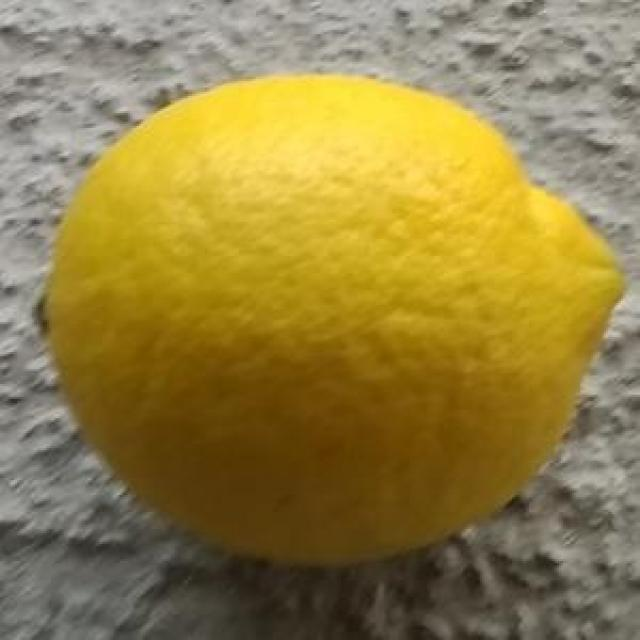lemon: (36, 71, 632, 568)
